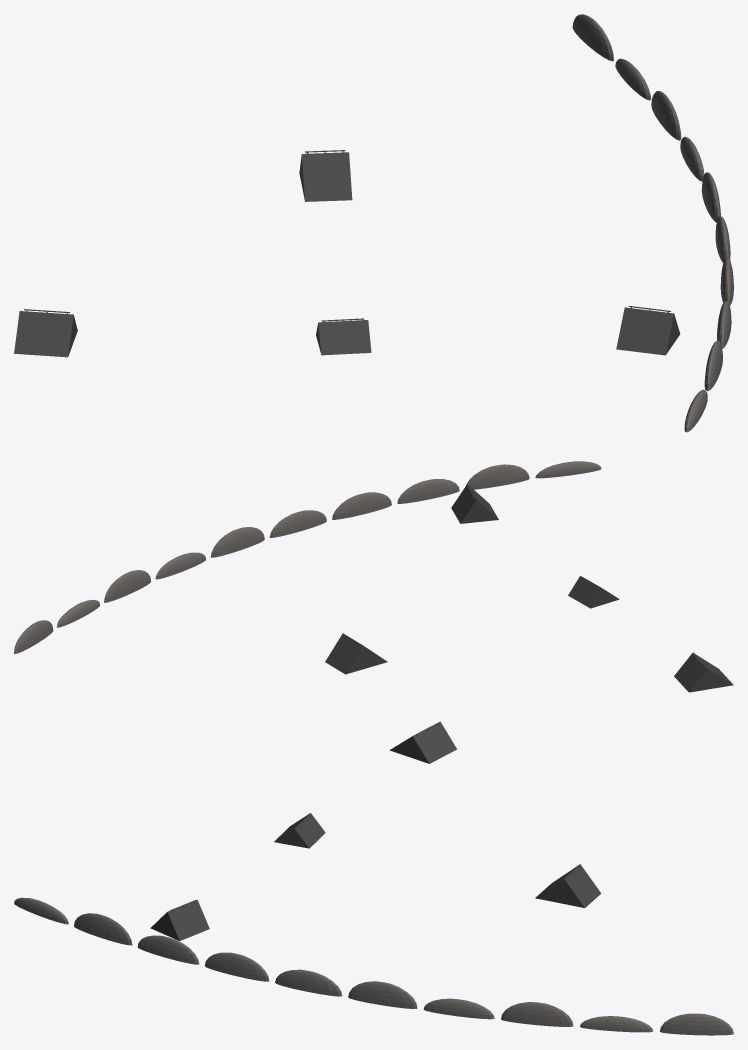
Rendered from SM_City_MukhayyamAlNiran_7.fbx.
3 renders of one model, top to bottom at view 1: azimuth 30°, elevation 25°; view 2: azimuth 150°, elevation 25°; view 3: azimuth 270°, elevation 25°, orthographic. The views are drawn at different scales.
Parts seen in each view (by area): view 1: SM_City_MukhayyamAlNiran_7; view 2: SM_City_MukhayyamAlNiran_7; view 3: SM_City_MukhayyamAlNiran_7.
Boxes of the visible parts, left/top/right/bottom form: SM_City_MukhayyamAlNiran_7: left=14, top=14, right=733, bottom=432; SM_City_MukhayyamAlNiran_7: left=14, top=461, right=733, bottom=692; SM_City_MukhayyamAlNiran_7: left=14, top=721, right=733, bottom=1035.
Bounding box in the file's own units: 7883 × 324 × 8001.
Materials: 3 (3 with a texture image).
